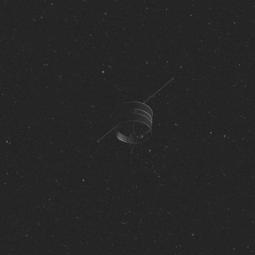double_start: (104, 92, 162, 146)
